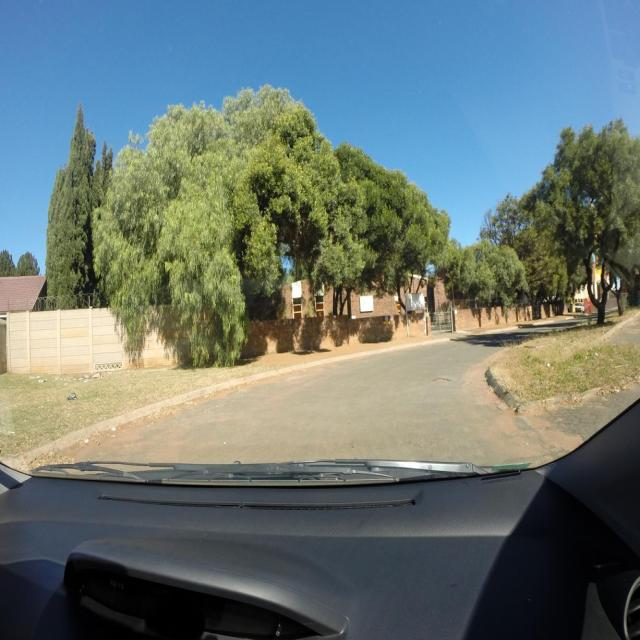Pothole: (430, 377, 450, 383)
